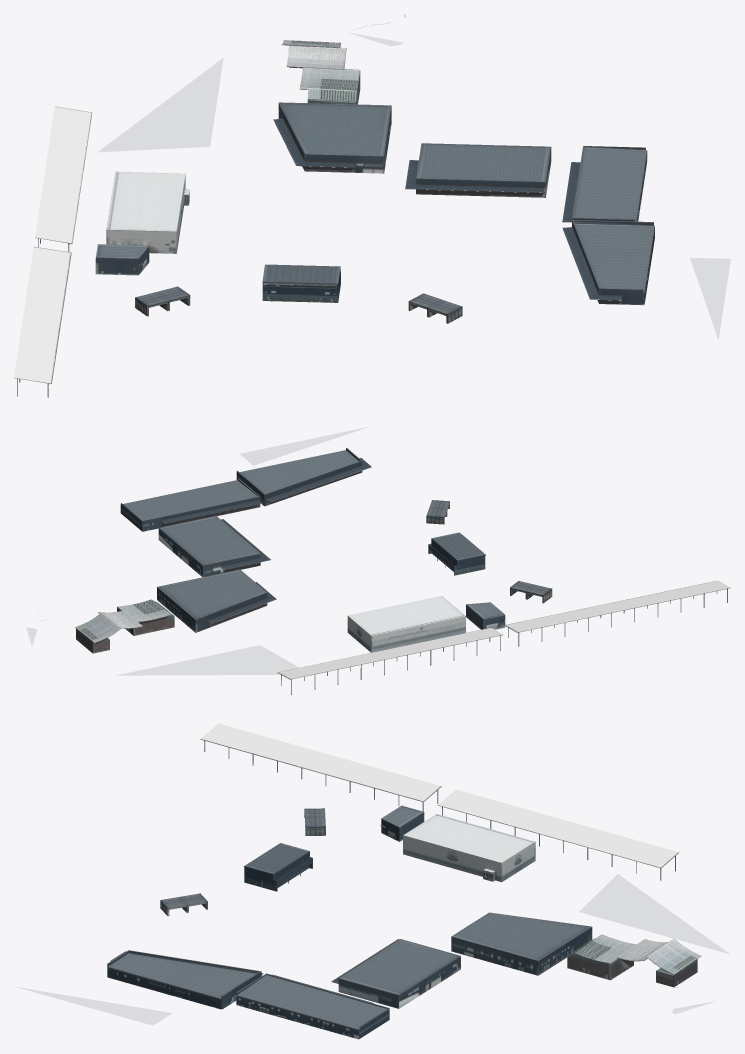
The picture shows the model from 3 angles, top to bottom: view 1: azimuth 30°, elevation 25°; view 2: azimuth 150°, elevation 25°; view 3: azimuth 270°, elevation 25°; orthographic projection. The views are drawn at different scales.
Visible parts, largest first — view 1: Buildings_建物パビリオン; view 2: Buildings_建物パビリオン; view 3: Buildings_建物パビリオン.
Part boxes in pixels (x1,y1,x2,y2): Buildings_建物パビリオン: (14, 14, 730, 397); Buildings_建物パビリオン: (14, 426, 730, 694); Buildings_建物パビリオン: (16, 723, 730, 1039).
Size of the model in its own units: 245 by 10.27 by 246.
13 materials, 12 textured.
